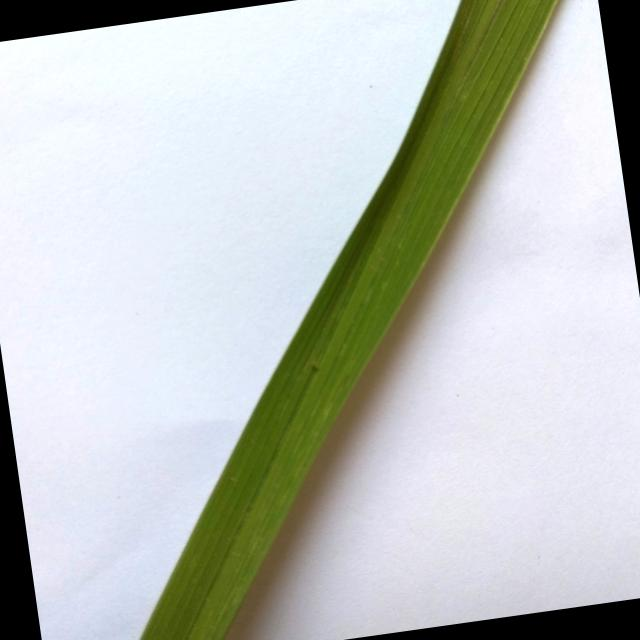Rice_Healthy: (139, 0, 558, 640)
